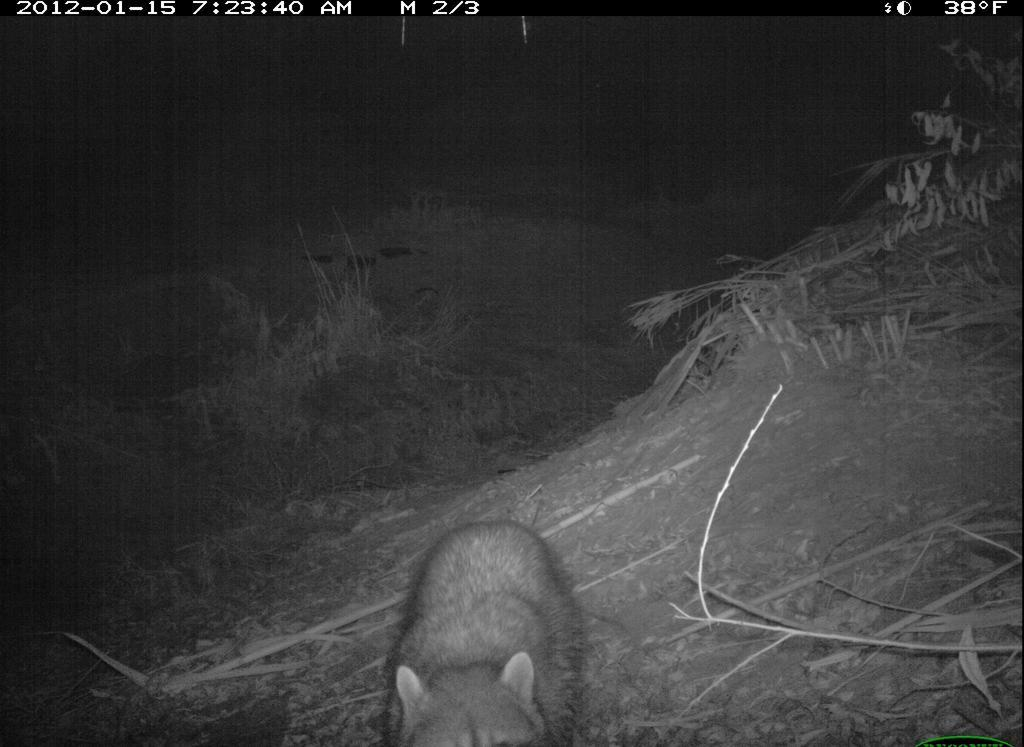raccoon: (360, 515, 621, 747)
